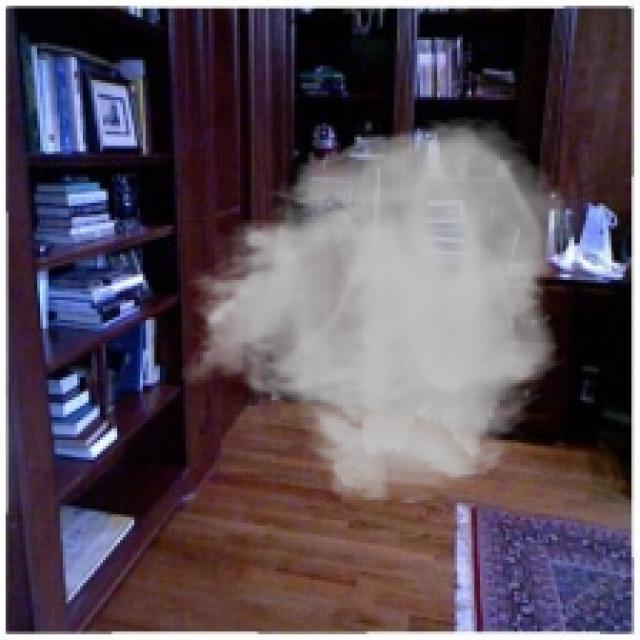Smoke: (177, 114, 577, 509)
